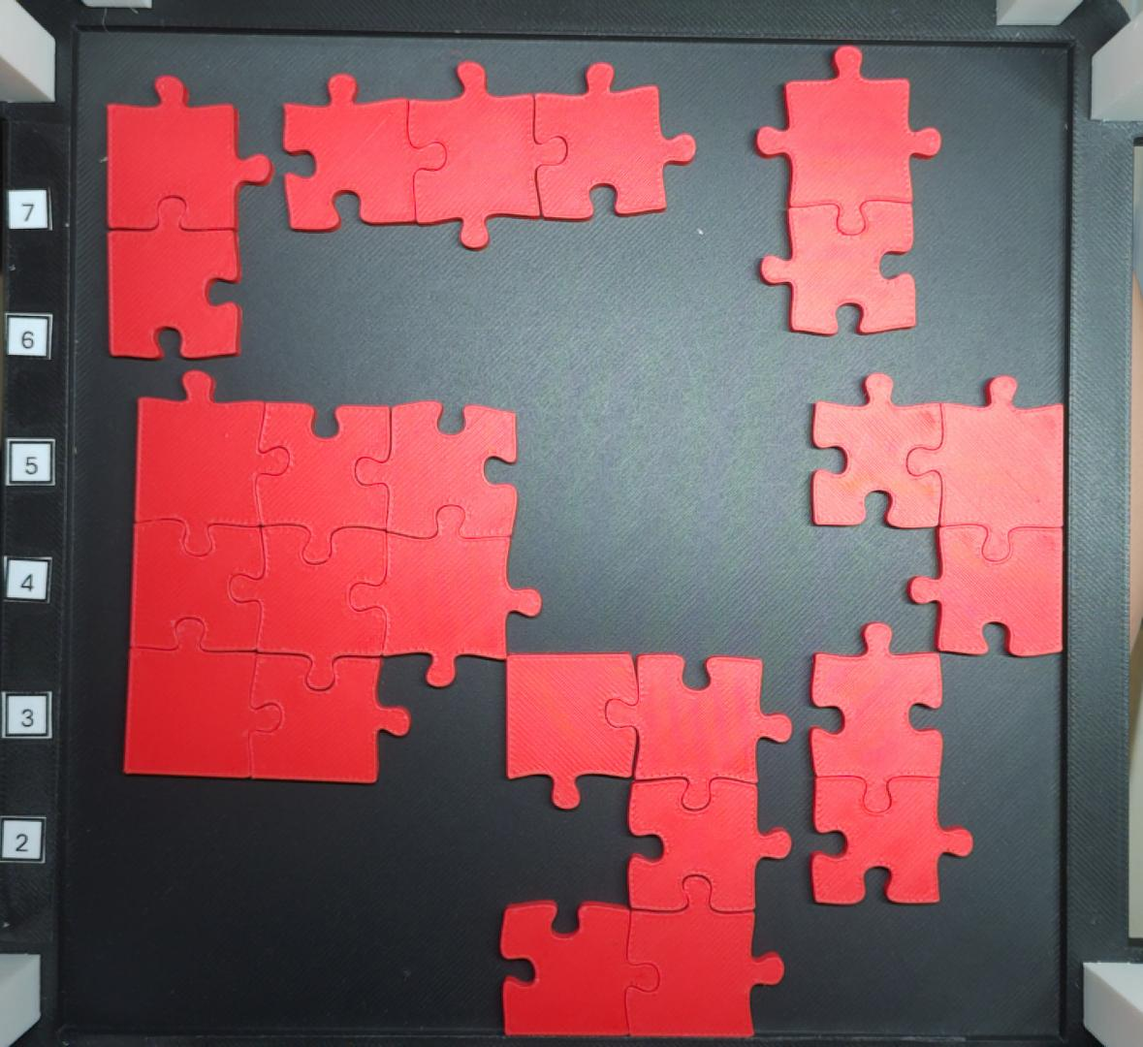p_2: (757, 44, 941, 338), (105, 73, 275, 359), (811, 622, 976, 905)
p_3: (283, 62, 700, 251), (808, 372, 1064, 658)
p_m: (120, 370, 541, 786), (500, 653, 787, 1037)
